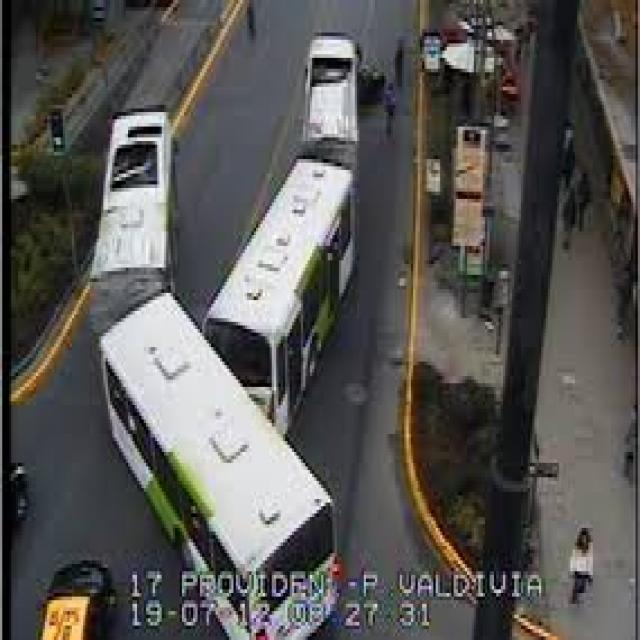AB: (92, 101, 353, 640), (193, 26, 371, 448)
